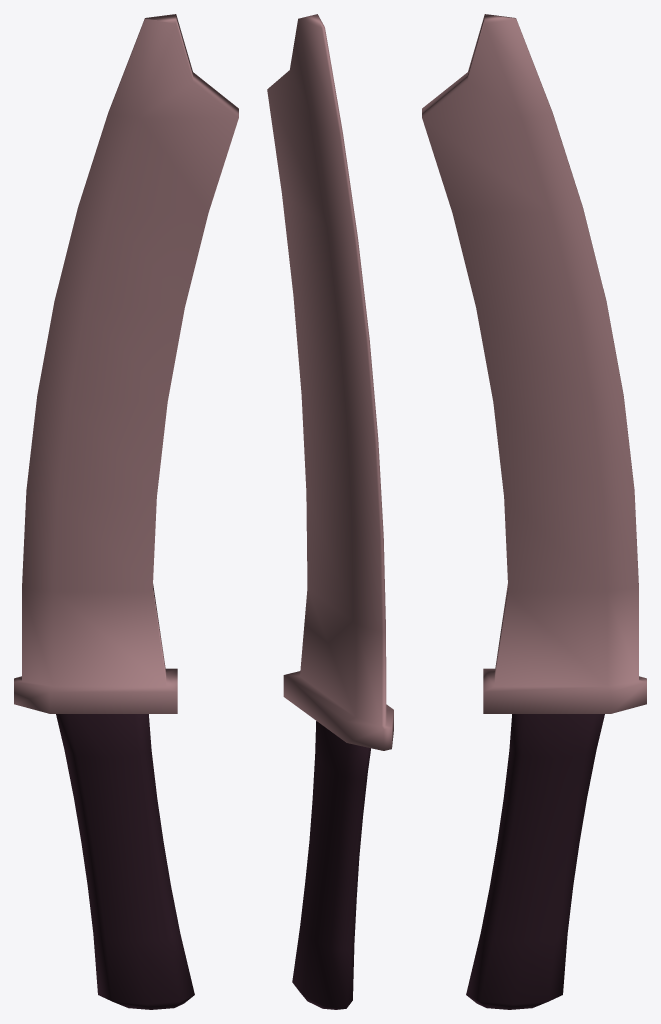
File: knife.glb
The picture shows the model from 3 angles, left to right: view 1: azimuth 90°, elevation 25°; view 2: azimuth 210°, elevation 25°; view 3: azimuth 270°, elevation 25°; orthographic projection.
Visible parts, largest first — view 1: Cylinder; view 2: Cylinder; view 3: Cylinder.
Boxes of the visible parts, left/top/right/bottom form: Cylinder: left=14, top=14, right=238, bottom=1009; Cylinder: left=267, top=14, right=393, bottom=1009; Cylinder: left=422, top=14, right=646, bottom=1009.
Bounding box in the file's own units: 0.0192 × 0.3775 × 0.0781.
